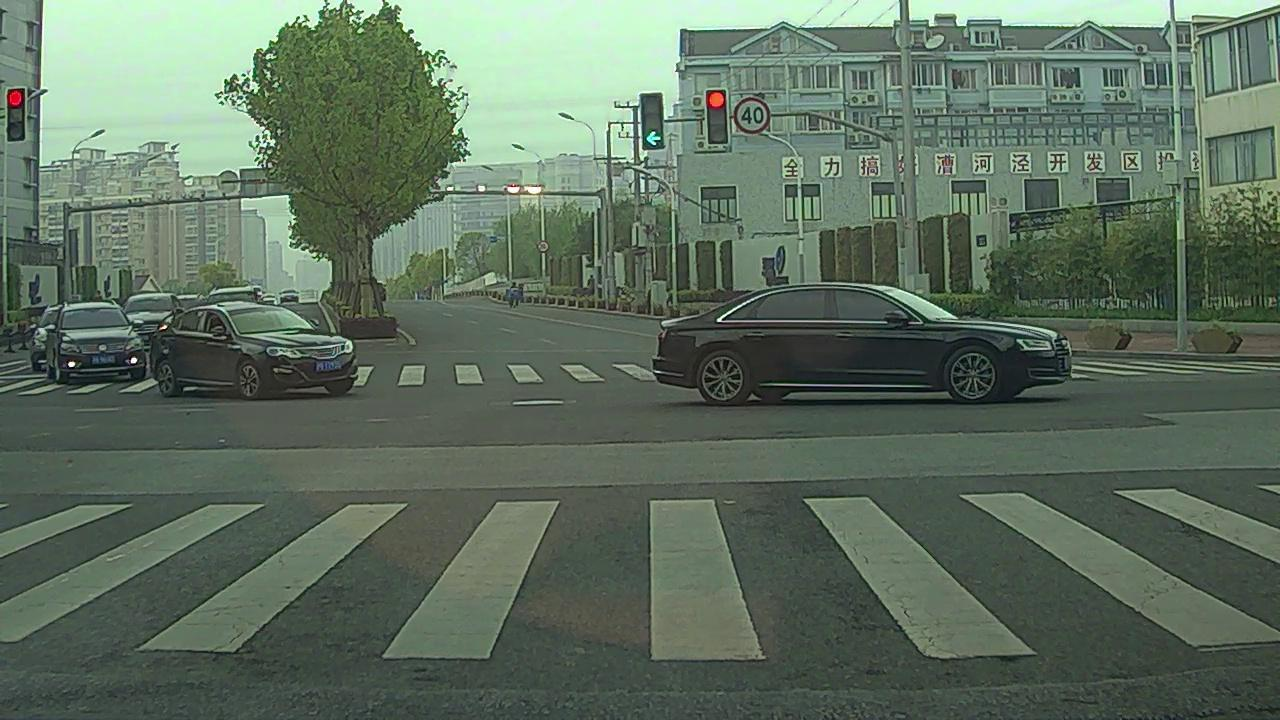traffic_light: (640, 94, 664, 150), (707, 89, 728, 144), (7, 89, 26, 141)
